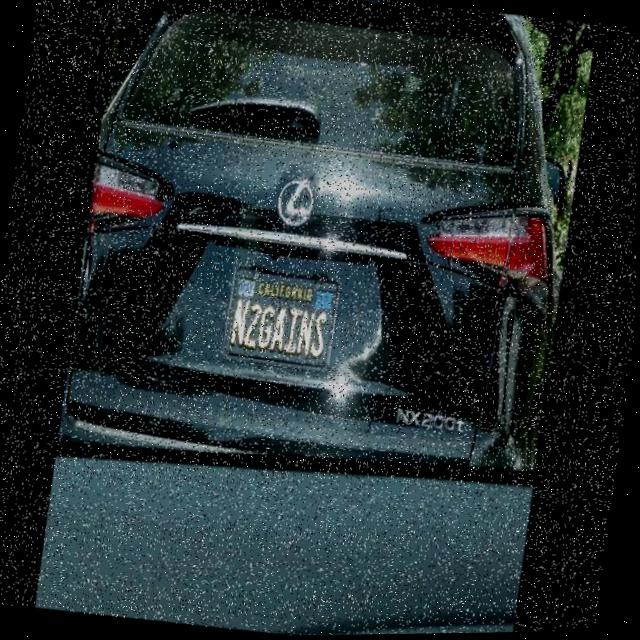LicensePlate: (224, 266, 341, 366)
